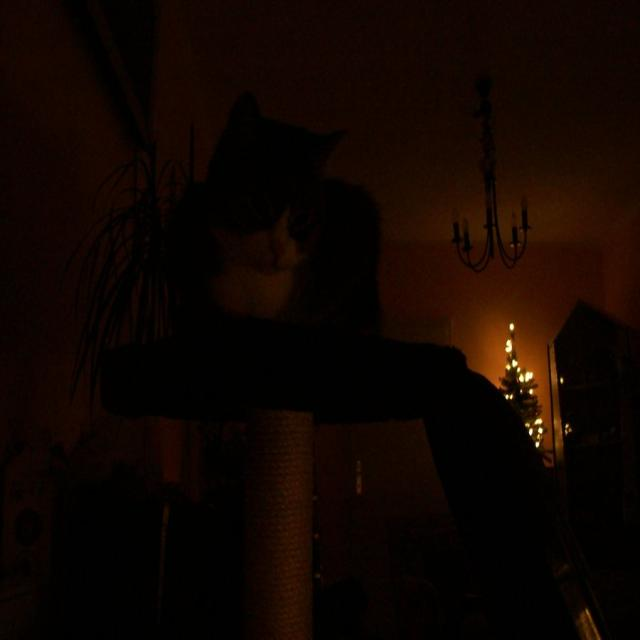Cat: (169, 63, 402, 417)
